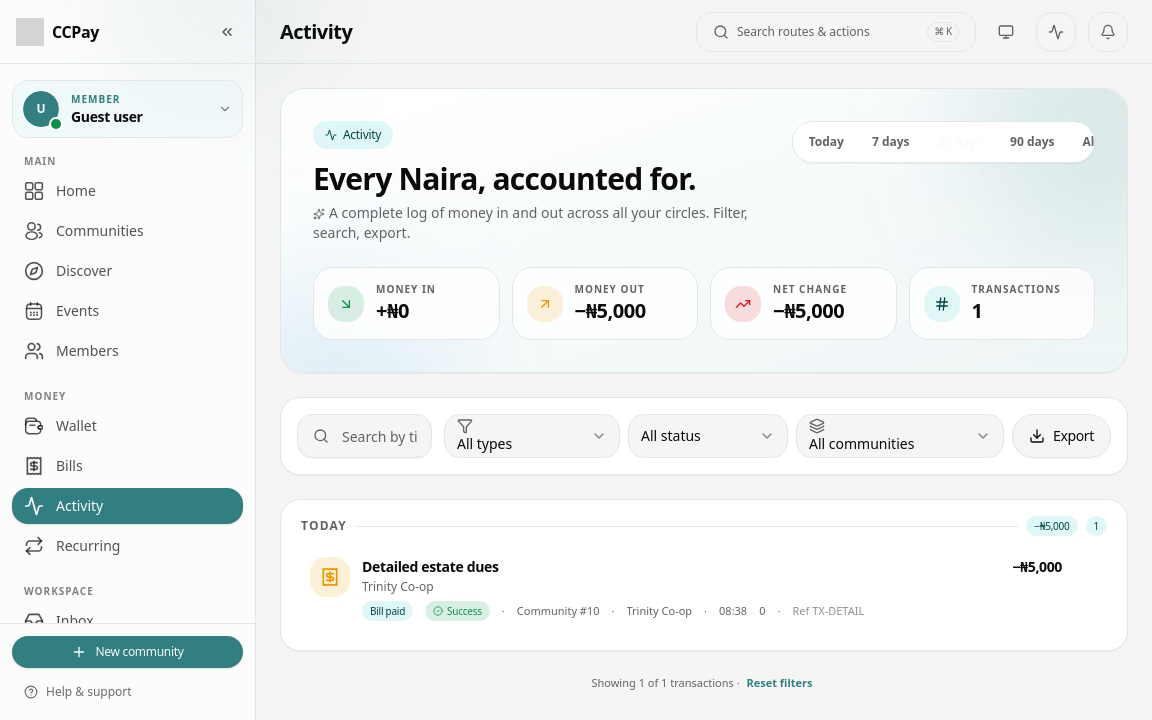
Test: /dashboard/activity › opens a transaction detail dialog backed by the selected API row
Click the text "Detailed estate dues": [430, 566] box [362,557,498,576]
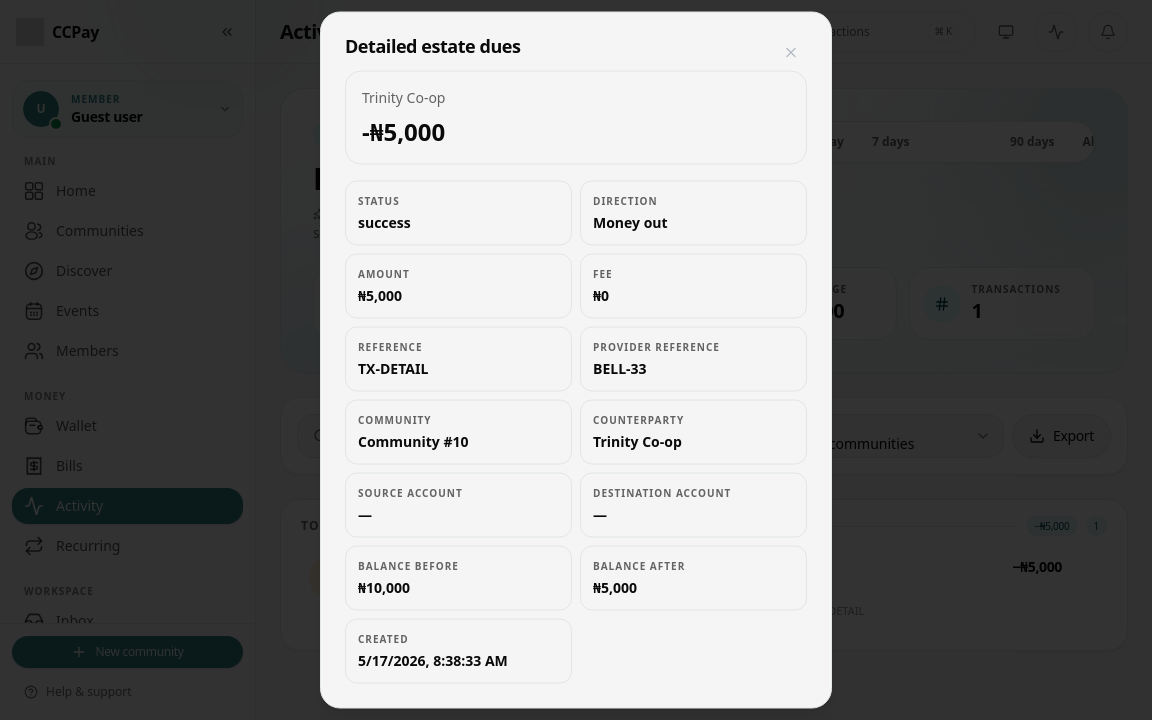
Now the dialog is shown, box [320,12,832,708]
Now the text "TX-DETAIL" is shown, box [358,358,428,378]
Now the text "BELL-33" is shown, box [593,358,647,378]
